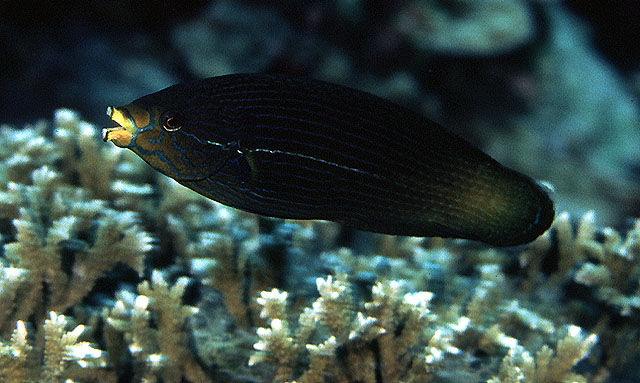fish: (102, 71, 558, 249)
